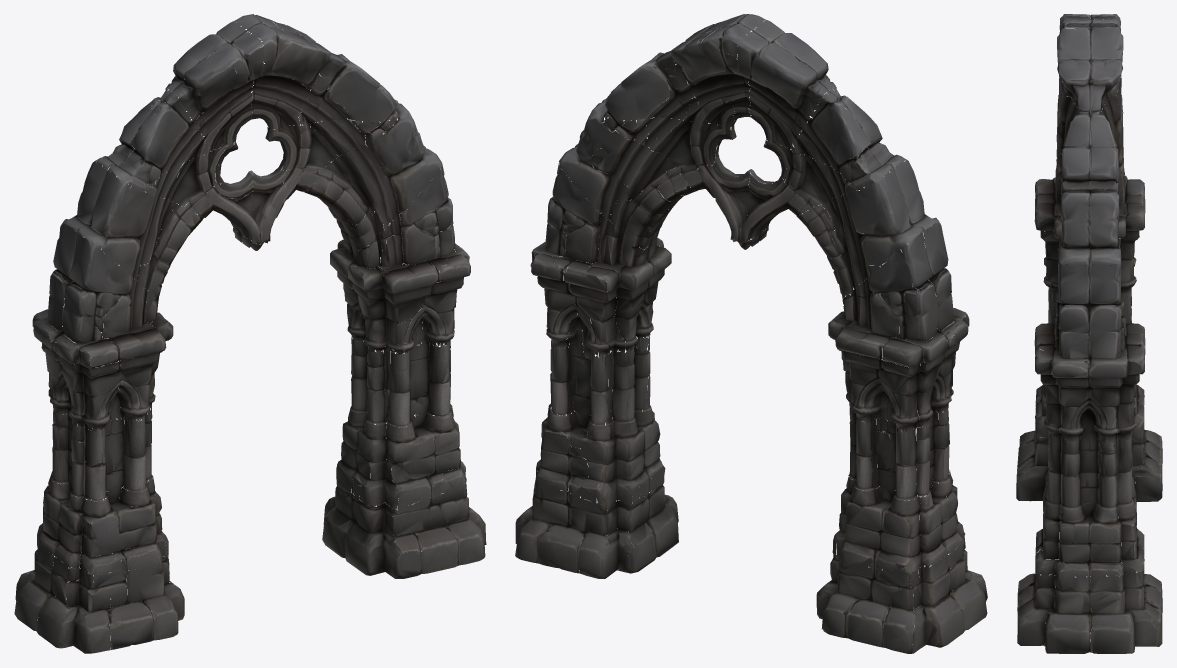
Rendered from tripo-arch-web.glb.
The picture shows the model from 3 angles, left to right: view 1: azimuth 30°, elevation 25°; view 2: azimuth 150°, elevation 25°; view 3: azimuth 270°, elevation 25°; orthographic projection. The views are drawn at different scales.
Parts seen in each view (by area): view 1: tripo-arch-web; view 2: tripo-arch-web; view 3: tripo-arch-web.
Part boxes in pixels (x1=…): tripo-arch-web: x1=14, y1=14, x2=486, y2=653; tripo-arch-web: x1=515, y1=14, x2=987, y2=653; tripo-arch-web: x1=1016, y1=14, x2=1162, y2=653.
Bounding box in the file's own units: 4.43 × 5.5 × 1.35.
Materials: 1 (1 with a texture image).
